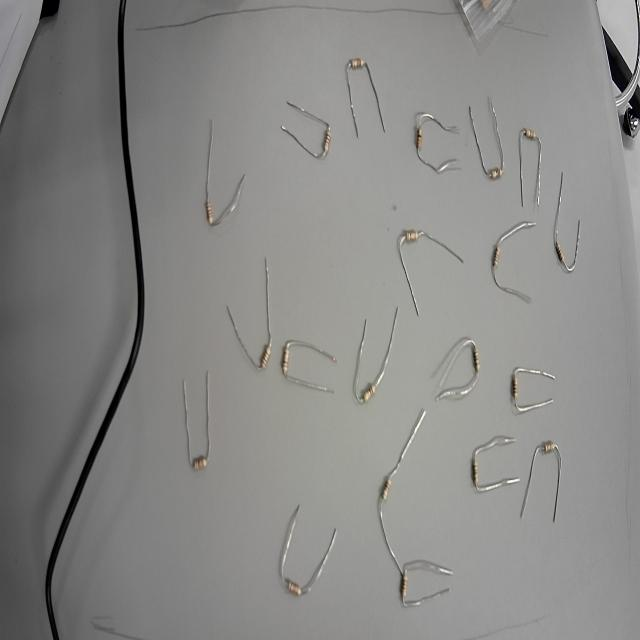resistor: (341, 334, 392, 413), (369, 441, 408, 534), (541, 227, 587, 300), (400, 83, 433, 180), (474, 219, 509, 310), (528, 425, 573, 494), (274, 557, 322, 621), (460, 318, 497, 399), (503, 93, 548, 159), (191, 170, 231, 244), (170, 438, 231, 484), (390, 219, 444, 270), (308, 100, 337, 182), (392, 545, 420, 626), (246, 316, 272, 395), (339, 30, 374, 88), (277, 320, 301, 403), (471, 156, 511, 201), (466, 431, 488, 502)
